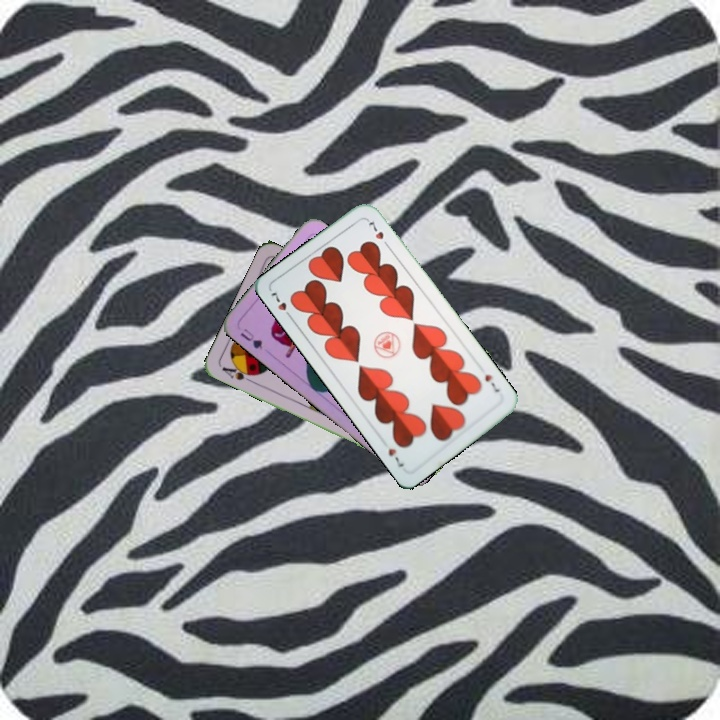GU: (236, 324, 265, 352)
H7: (267, 288, 295, 322), (481, 370, 503, 395)
SA: (218, 361, 258, 386)
